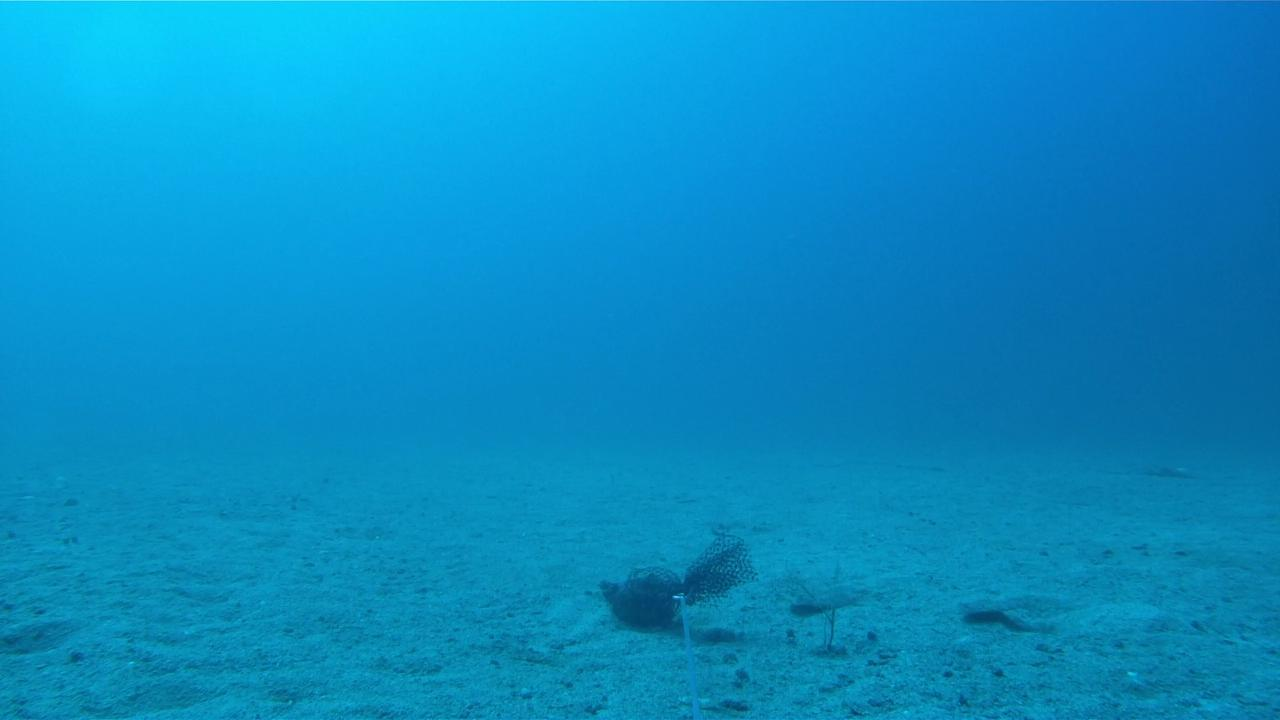bothus: (788, 570, 868, 619), (952, 586, 1039, 626)
